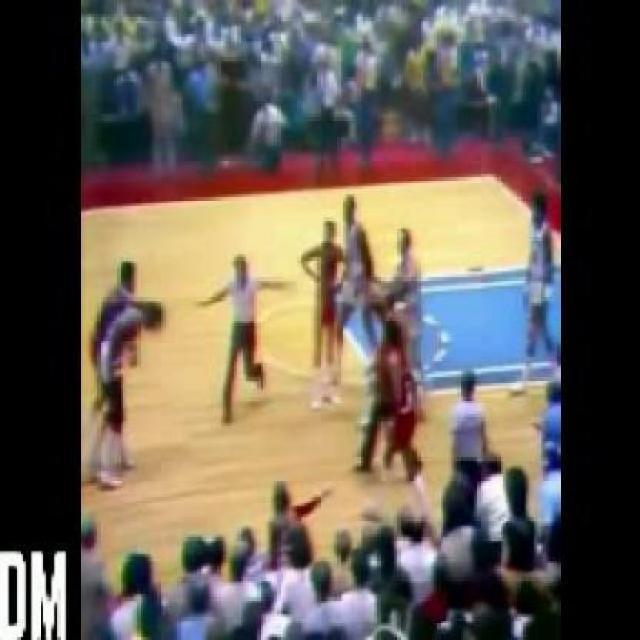non-fight: (88, 252, 168, 486), (193, 252, 293, 420), (364, 319, 424, 484), (298, 222, 346, 410), (516, 190, 558, 388)
